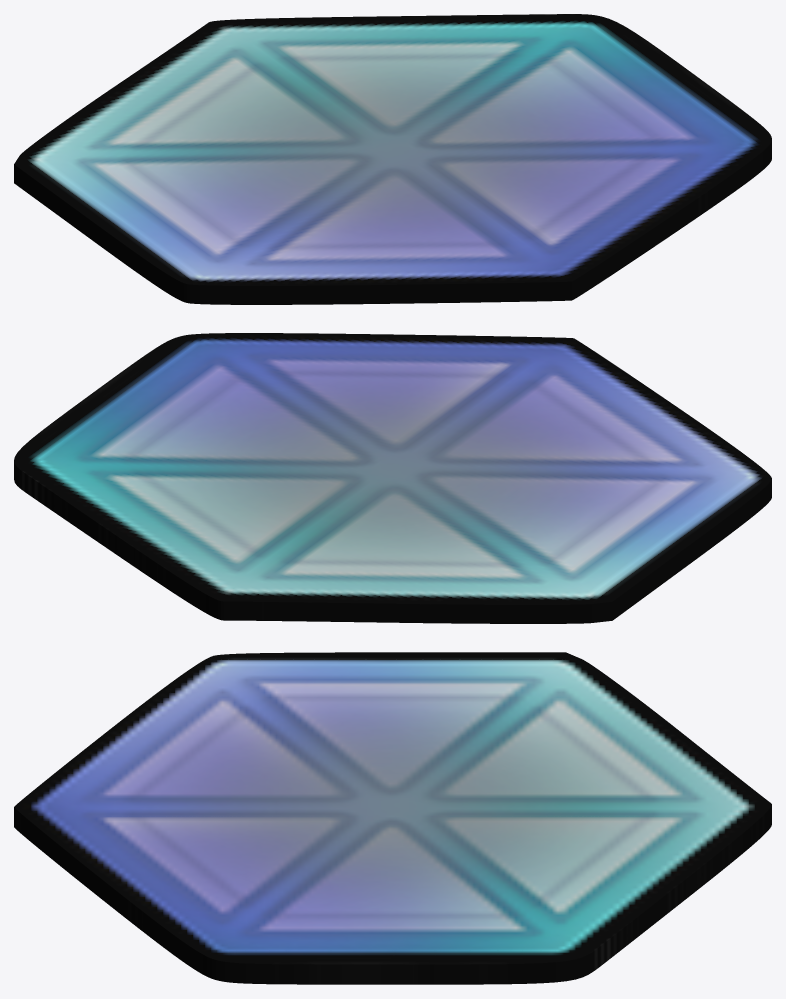
3 views of the same model, one above another, from view 1: azimuth 30°, elevation 25°; view 2: azimuth 150°, elevation 25°; view 3: azimuth 270°, elevation 25° (orthographic). The views are drawn at different scales.
Visible parts, largest first — view 1: path24; view 2: path24; view 3: path24.
Part boxes in pixels (bbox=[...]): path24: bbox=[14, 14, 771, 304]; path24: bbox=[14, 333, 771, 623]; path24: bbox=[14, 652, 771, 984].
Bounding box in the file's own units: 83.34 × 2.5 × 85.49.
1 material, 1 textured.
